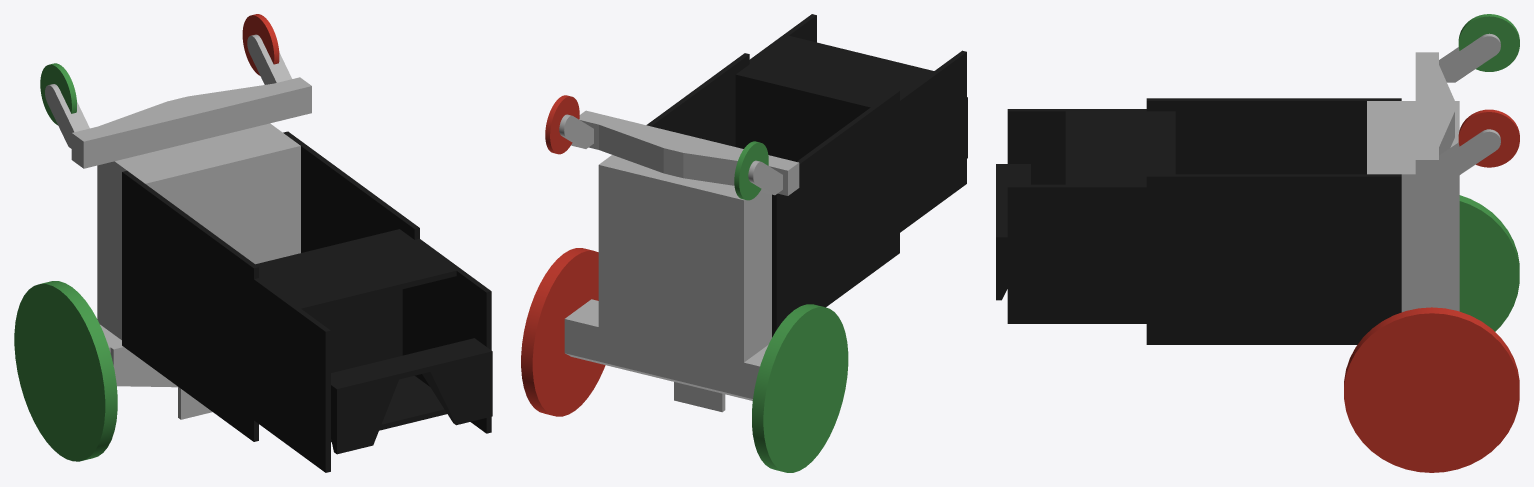
Rendered from robot.obj.
The picture shows the model from 3 angles, left to right: view 1: azimuth 30°, elevation 25°; view 2: azimuth 150°, elevation 25°; view 3: azimuth 270°, elevation 25°; orthographic projection. The views are drawn at different scales.
Parts seen in each view (by area): view 1: Body11, Body1, Body14, Body4, Body13, Body15, Body5, Body10, Body12, Body16, Body8, Body6 (+2 smaller); view 2: Body1, Body11, Body14, Body4, Body13, Body3, Body2, Body5, Body10, Body7, Body9, Body16 (+3 smaller); view 3: Body10, Body3, Body12, Body11, Body1, Body14, Body4, Body5, Body13, Body15, Body7, Body9 (+2 smaller).
Part boxes in pixels (box(x1,y1,x2,y2)): Body11: box(122, 170, 258, 441); Body1: box(97, 123, 300, 339); Body14: box(255, 229, 456, 442); Body4: box(14, 281, 117, 461); Body13: box(254, 278, 330, 472); Body15: box(331, 338, 492, 454); Body5: box(71, 77, 311, 168); Body10: box(283, 131, 419, 355); Body12: box(414, 239, 491, 433); Body16: box(110, 344, 212, 419); Body8: box(45, 84, 89, 148); Body6: box(247, 34, 291, 84); Body1: box(598, 155, 771, 362); Body11: box(772, 89, 899, 337); Body14: box(735, 35, 933, 161); Body4: box(752, 304, 848, 472); Body13: box(900, 50, 966, 232); Body3: box(521, 248, 605, 416); Body2: box(564, 299, 768, 400); Body5: box(579, 110, 799, 195); Body10: box(646, 53, 749, 146); Body7: box(545, 95, 579, 154); Body9: box(734, 141, 768, 200); Body16: box(674, 382, 725, 412); Body10: box(1146, 174, 1401, 344); Body3: box(1344, 307, 1519, 472); Body12: box(1007, 184, 1146, 323); Body11: box(1146, 98, 1401, 174); Body1: box(1367, 101, 1459, 312); Body14: box(1065, 111, 1175, 184); Body4: box(1459, 195, 1519, 331); Body5: box(1415, 52, 1454, 186); Body13: box(1007, 109, 1146, 184); Body15: box(996, 164, 1030, 300); Body7: box(1458, 109, 1519, 167); Body9: box(1458, 14, 1519, 71).
Bounding box in the file's own units: 25 × 33.2 × 45.19.
